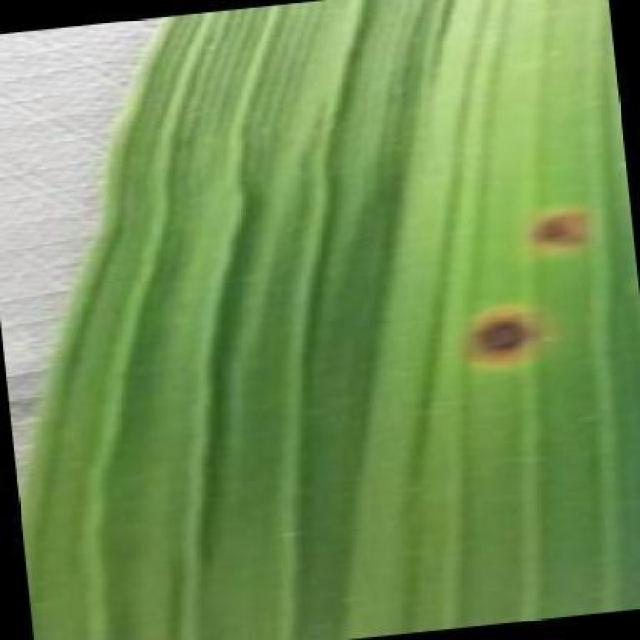Leaf_Blast: (438, 274, 584, 384), (510, 188, 605, 270)
